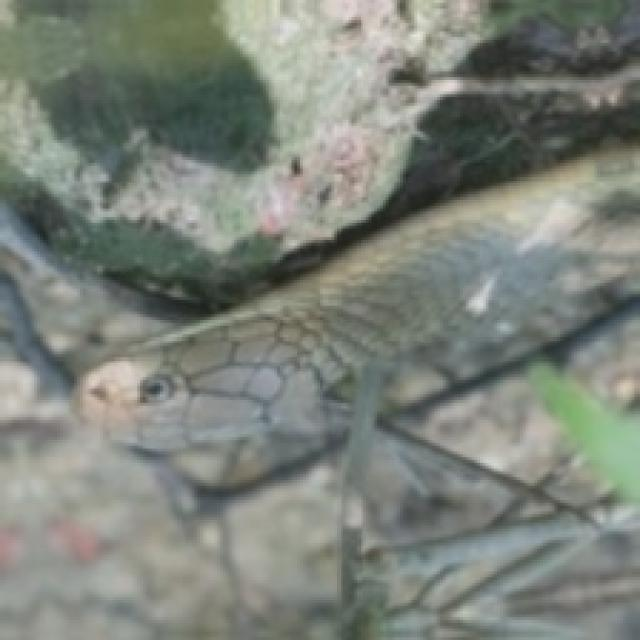king cobra: (77, 146, 637, 486), (417, 426, 594, 503)
